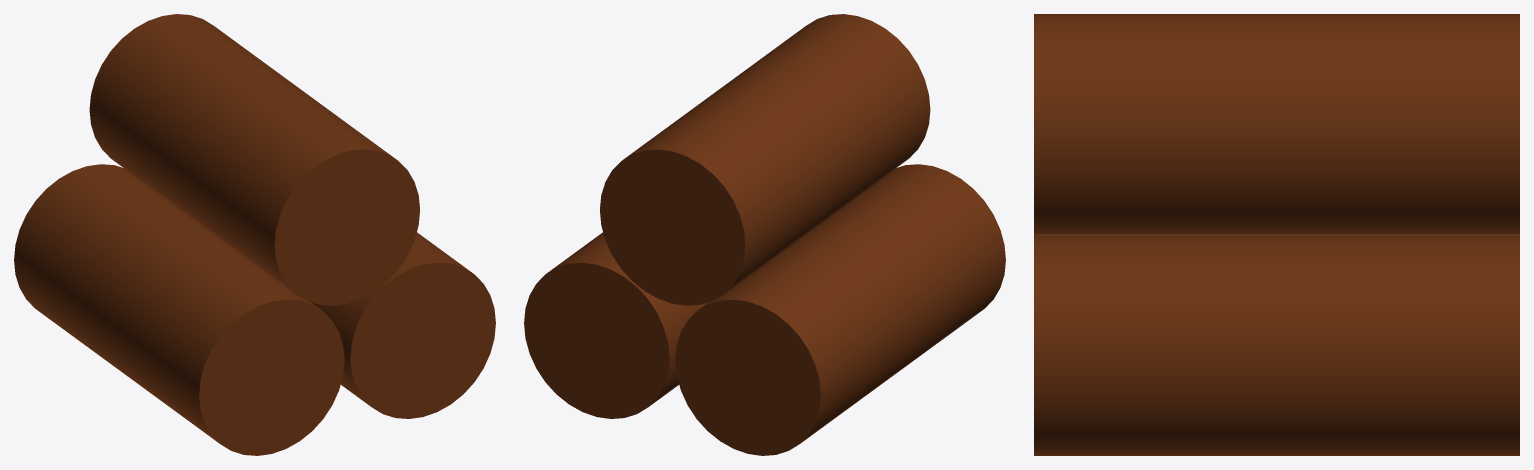
The model's file is WoodResource.fbx.
3 views of the same model, side by side, from view 1: azimuth 30°, elevation 25°; view 2: azimuth 150°, elevation 25°; view 3: azimuth 270°, elevation 25° (orthographic). The views are drawn at different scales.
Visible parts, largest first — view 1: Wood; view 2: Wood; view 3: Wood.
Boxes of the visible parts, <box> form: Wood: <box>14,14,495,455</box>; Wood: <box>524,14,1005,455</box>; Wood: <box>1034,14,1519,455</box>.
Bounding box in the file's own units: 0.82 × 0.7498 × 0.885.
